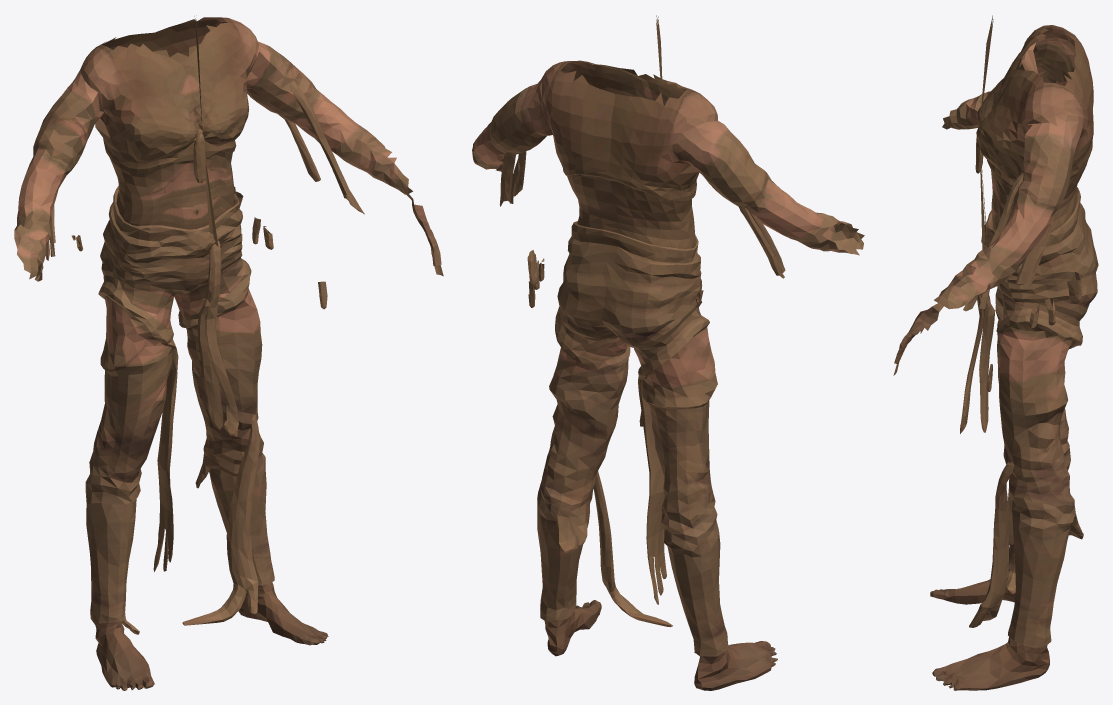
File: ewm_t2mummy_outfit.glb
3 views of the same model, side by side, from view 1: azimuth 30°, elevation 25°; view 2: azimuth 150°, elevation 25°; view 3: azimuth 270°, elevation 25° (orthographic). The views are drawn at different scales.
Visible parts, largest first — view 1: ewm_t2mummy_outfit; view 2: ewm_t2mummy_outfit; view 3: ewm_t2mummy_outfit.
Part boxes in pixels (x1=…): ewm_t2mummy_outfit: x1=14, y1=16, x2=443, y2=690; ewm_t2mummy_outfit: x1=472, y1=15, x2=864, y2=690; ewm_t2mummy_outfit: x1=893, y1=15, x2=1098, y2=690.
Bounding box in the file's own units: 1.06 × 1.71 × 0.5067.
Materials: 1 (1 with a texture image).
